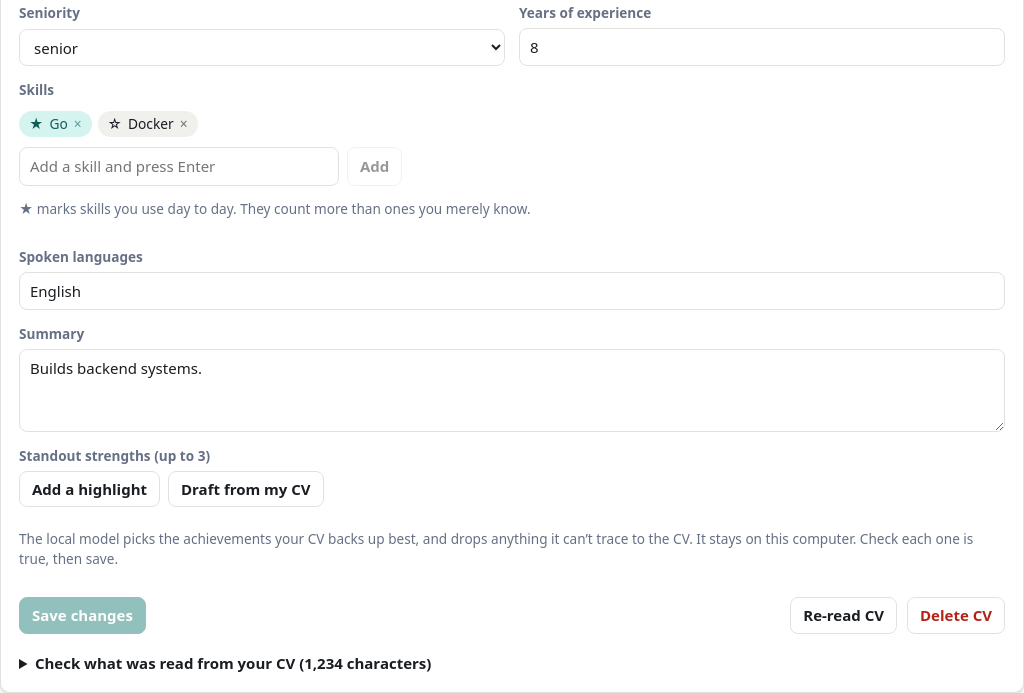
Scenario: Profile page: re-reading and deleting › deletes the CV after confirmation and goes back to the upload
(page scrolled)
What coordinates should you click on to do the following:
click the button "Delete CV"
I would click on:
 (956, 615)
Its box is [907,597,1005,634].
(page scrolled)
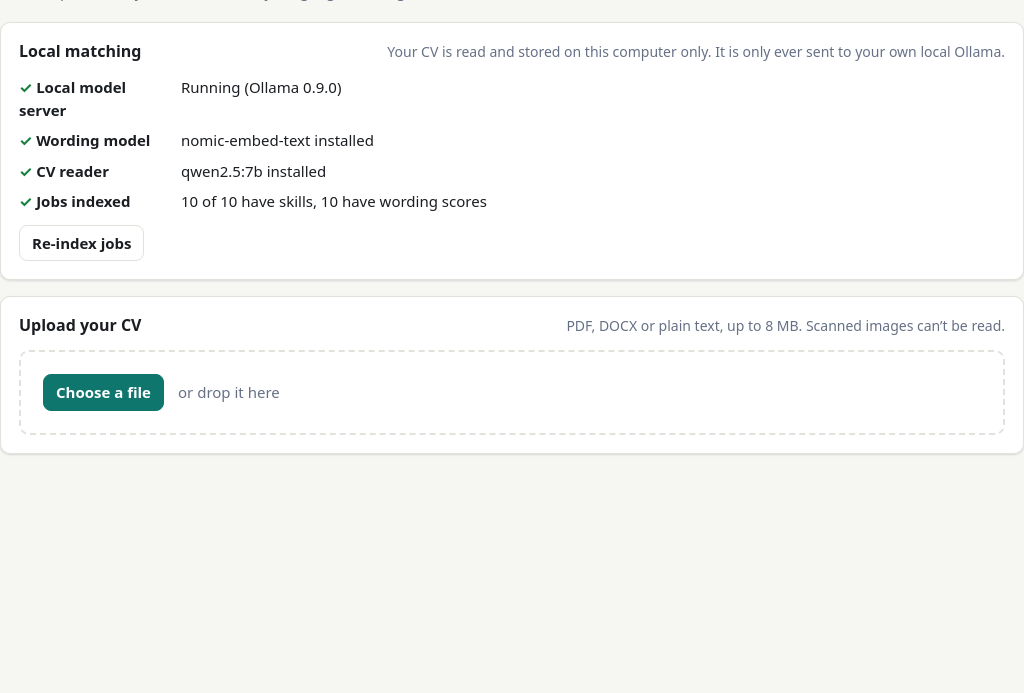
Result: the heading "Upload your CV" is shown at [19,315,142,335]
